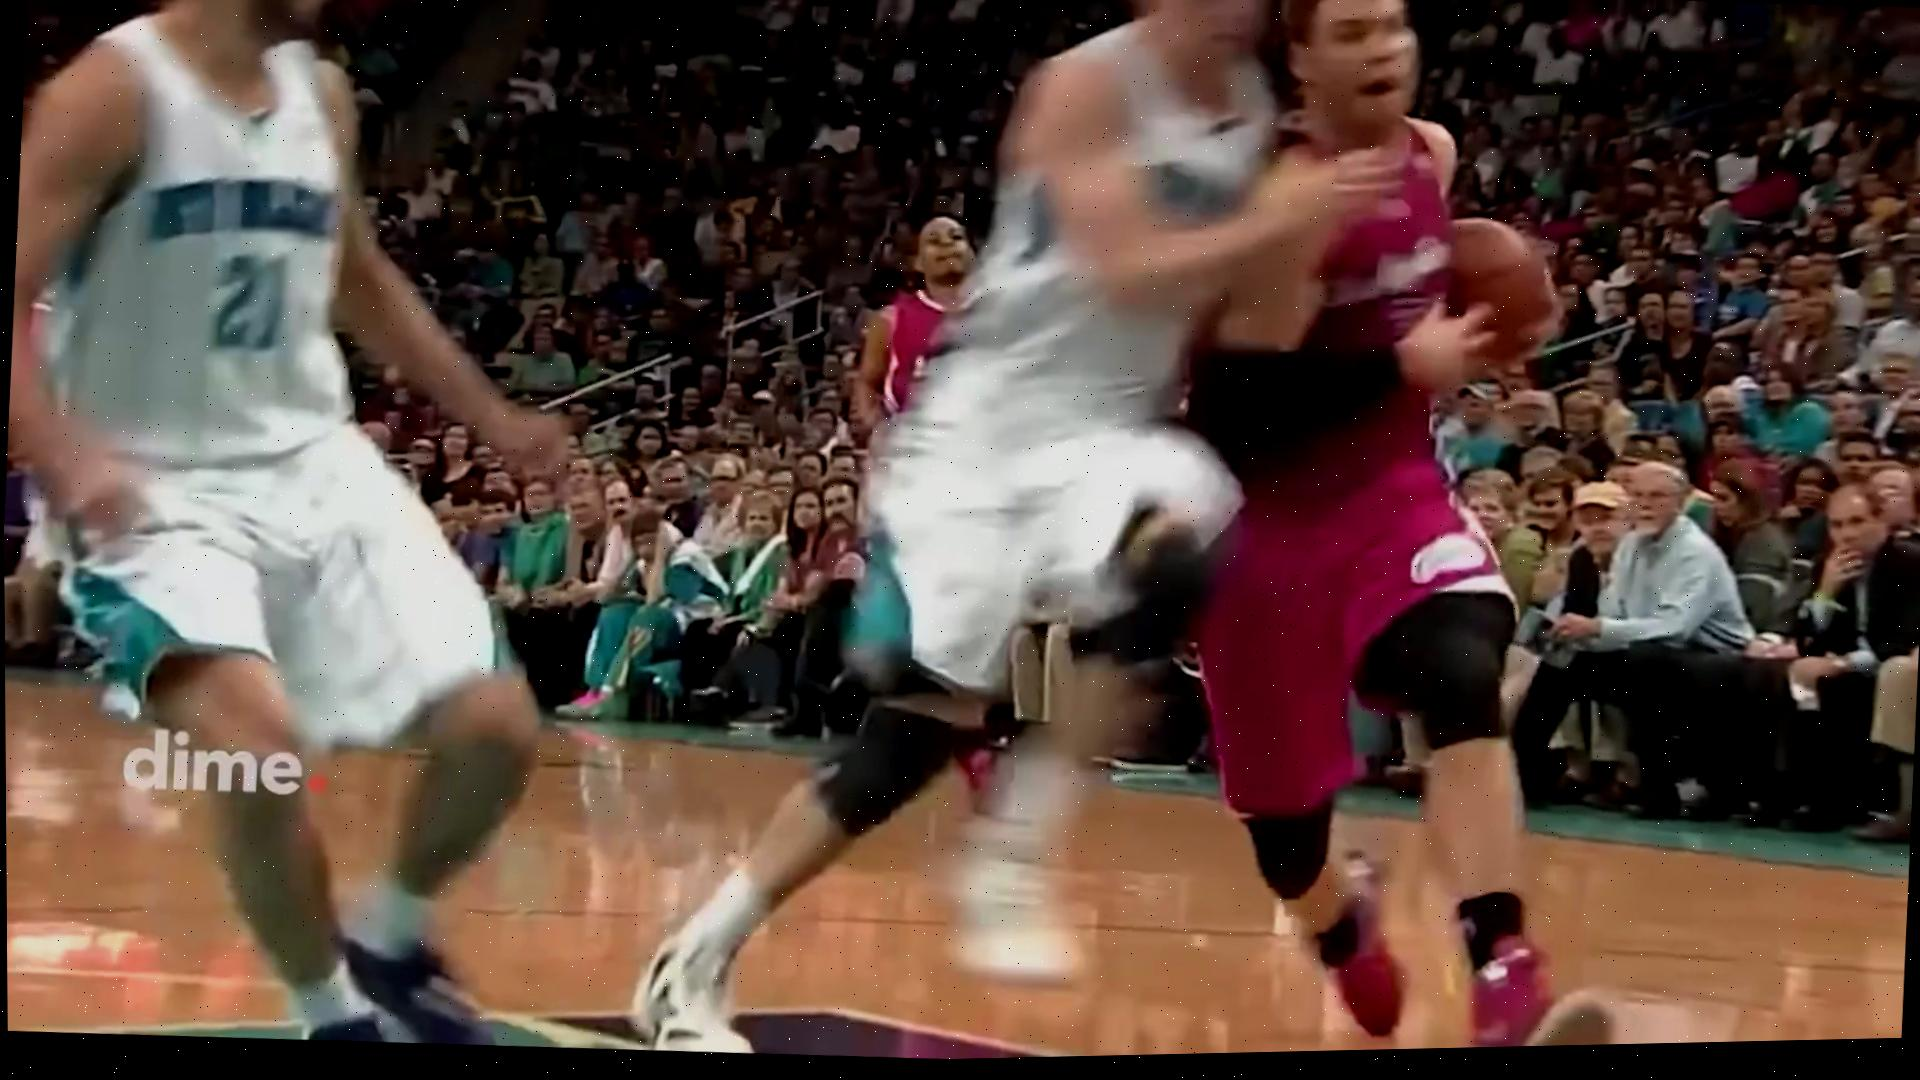no_foul: (783, 0, 1622, 1063)
